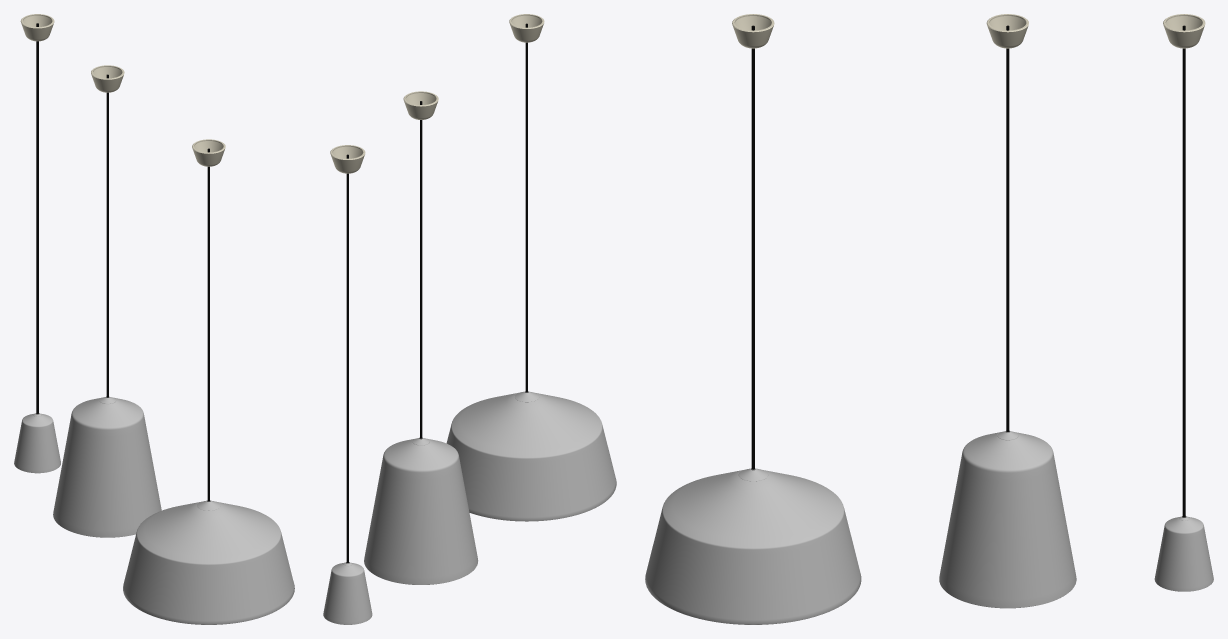
The model's file is warm.FBX.
3 renders of one model, left to right at view 1: azimuth 30°, elevation 25°; view 2: azimuth 150°, elevation 25°; view 3: azimuth 270°, elevation 25°, orthographic. The views are drawn at different scales.
Visible parts, largest first — view 1: Line019, Line020, Line021, Line022, Line024, Line023, Rectangle002, Rectangle003, Rectangle001; view 2: Line019, Line020, Line021, Line022, Line024, Line023, Rectangle002, Rectangle001, Rectangle003; view 3: Line019, Line020, Line021, Line022, Line024, Line023, Rectangle002, Rectangle001, Rectangle003.
Boxes of the visible parts, x1,y1,x2,y2 form: Line019: (123, 500, 294, 624); Line020: (53, 396, 161, 537); Line021: (14, 413, 60, 473); Line022: (36, 23, 38, 413); Line024: (207, 148, 209, 501); Line023: (106, 74, 108, 397); Rectangle002: (91, 65, 124, 92); Rectangle003: (192, 139, 225, 166); Rectangle001: (20, 14, 54, 41); Line019: (446, 391, 616, 521); Line020: (364, 437, 478, 584); Line021: (323, 562, 372, 624); Line022: (346, 154, 348, 562); Line024: (525, 23, 527, 392); Line023: (420, 101, 422, 438); Rectangle002: (403, 91, 438, 119); Rectangle001: (330, 145, 365, 173); Rectangle003: (509, 14, 544, 42); Line019: (645, 468, 861, 624); Line020: (939, 430, 1076, 608); Line021: (1154, 516, 1213, 591); Line022: (1182, 25, 1185, 517); Line024: (751, 25, 754, 469); Line023: (1006, 25, 1009, 431); Rectangle002: (986, 14, 1028, 48); Rectangle001: (1163, 14, 1205, 48); Rectangle003: (732, 14, 774, 48).
Size of the model in its own units: 55.83 by 159 by 147.
